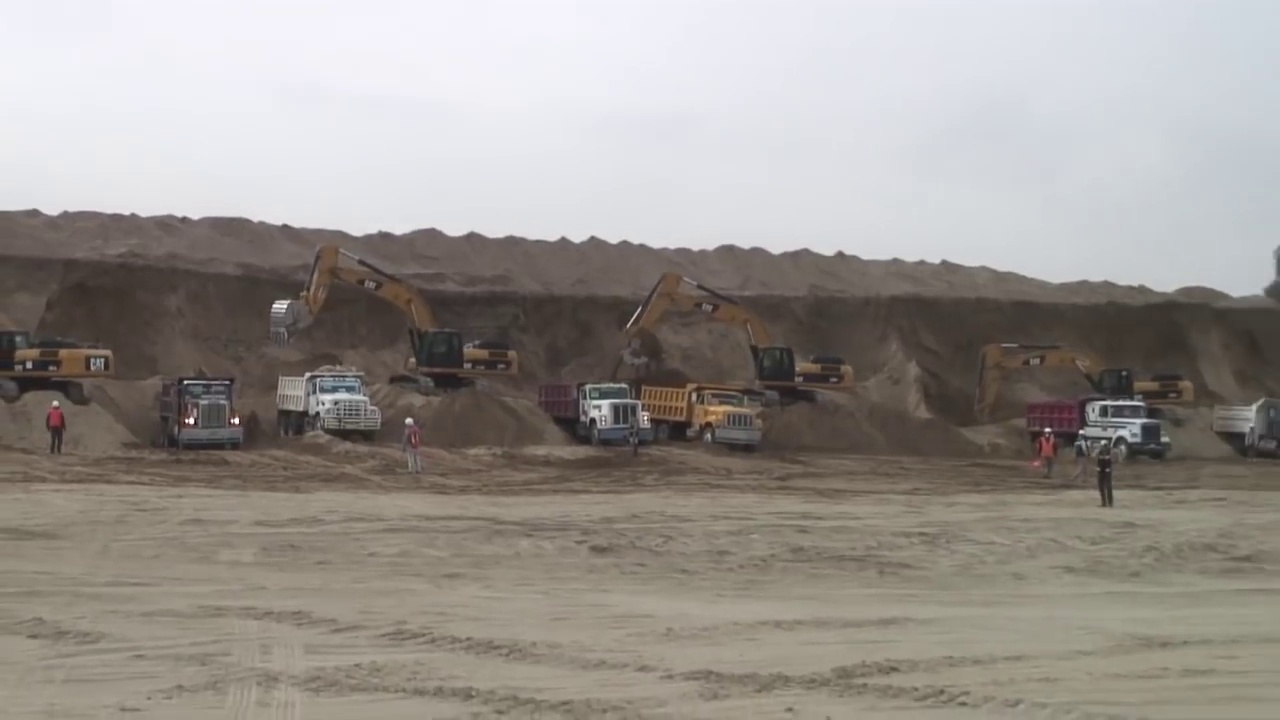excavator: (272, 241, 522, 401), (618, 270, 858, 424), (976, 339, 1195, 446), (1, 318, 114, 392)
person: (1099, 437, 1119, 508), (1073, 428, 1096, 488), (44, 398, 66, 456), (1041, 422, 1058, 486), (404, 416, 419, 474)
truck: (1026, 398, 1175, 468), (643, 380, 767, 456), (271, 369, 386, 439), (533, 379, 640, 446), (165, 372, 243, 453), (1212, 391, 1280, 467)
